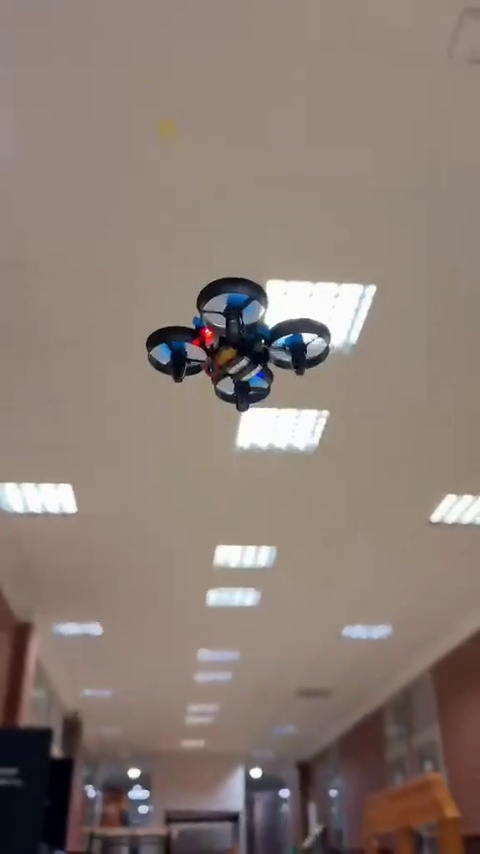drone: (146, 276, 334, 423)
